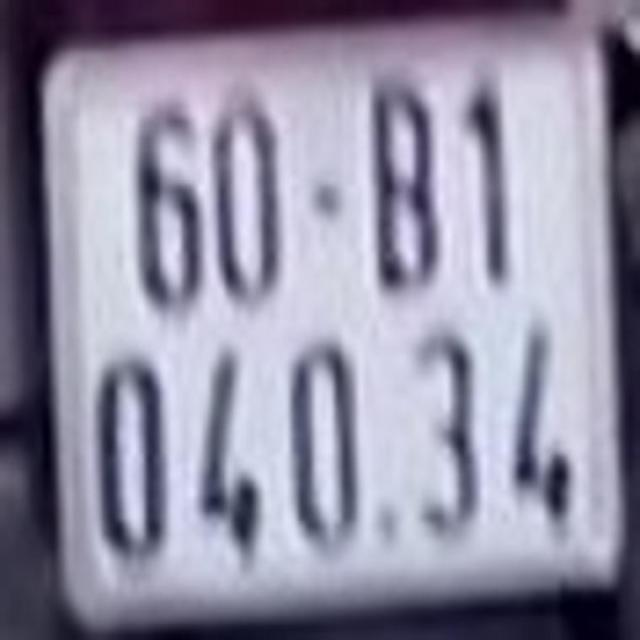0: (92, 356, 176, 566), (292, 336, 367, 562), (212, 87, 286, 300)
1: (462, 86, 520, 302)
3: (410, 322, 482, 535)
4: (197, 342, 267, 566), (507, 328, 581, 539)
6: (132, 98, 209, 309)
B: (378, 82, 442, 295)
